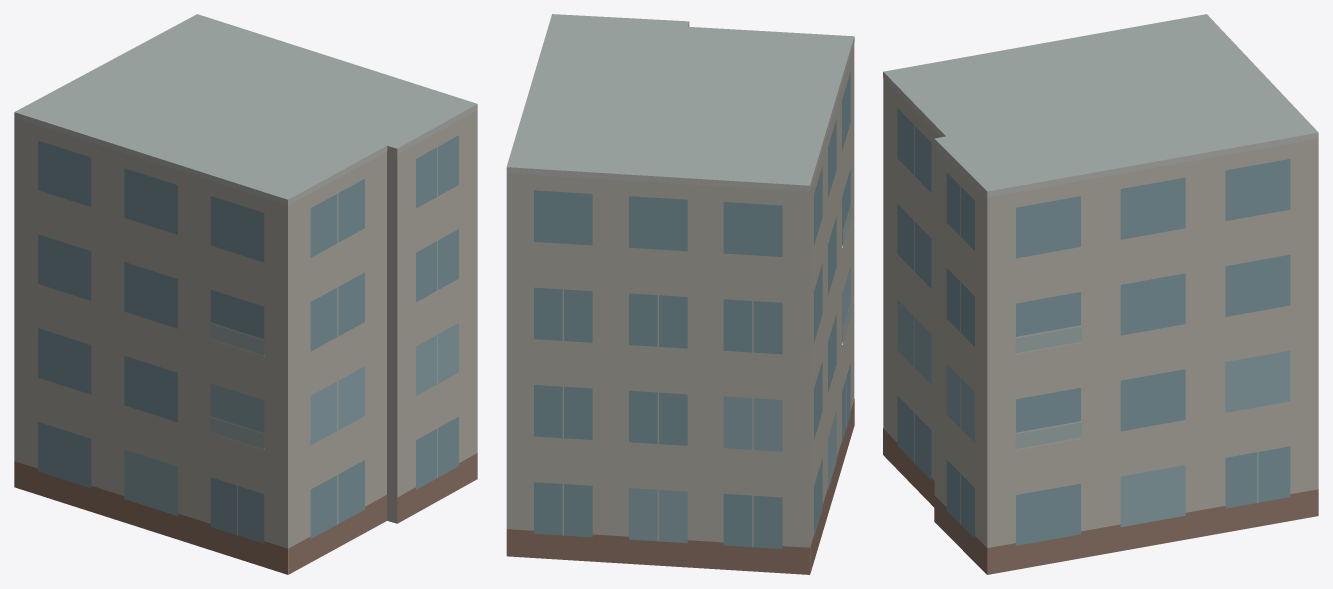
File: survey-upis-32860450.glb
3 views of the same model, side by side, from view 1: azimuth 30°, elevation 25°; view 2: azimuth 150°, elevation 25°; view 3: azimuth 270°, elevation 25° (orthographic). The views are drawn at different scales.
Parts seen in each view (by area): view 1: survey-upis-32860450.tmp; view 2: survey-upis-32860450.tmp; view 3: survey-upis-32860450.tmp.
Boxes of the visible parts, x1,y1,x2,y2 form: survey-upis-32860450.tmp: (14,14,477,574); survey-upis-32860450.tmp: (506,14,854,574); survey-upis-32860450.tmp: (883,14,1318,574).
Bounding box in the file's own units: 15.65 × 15.75 × 16.23.
